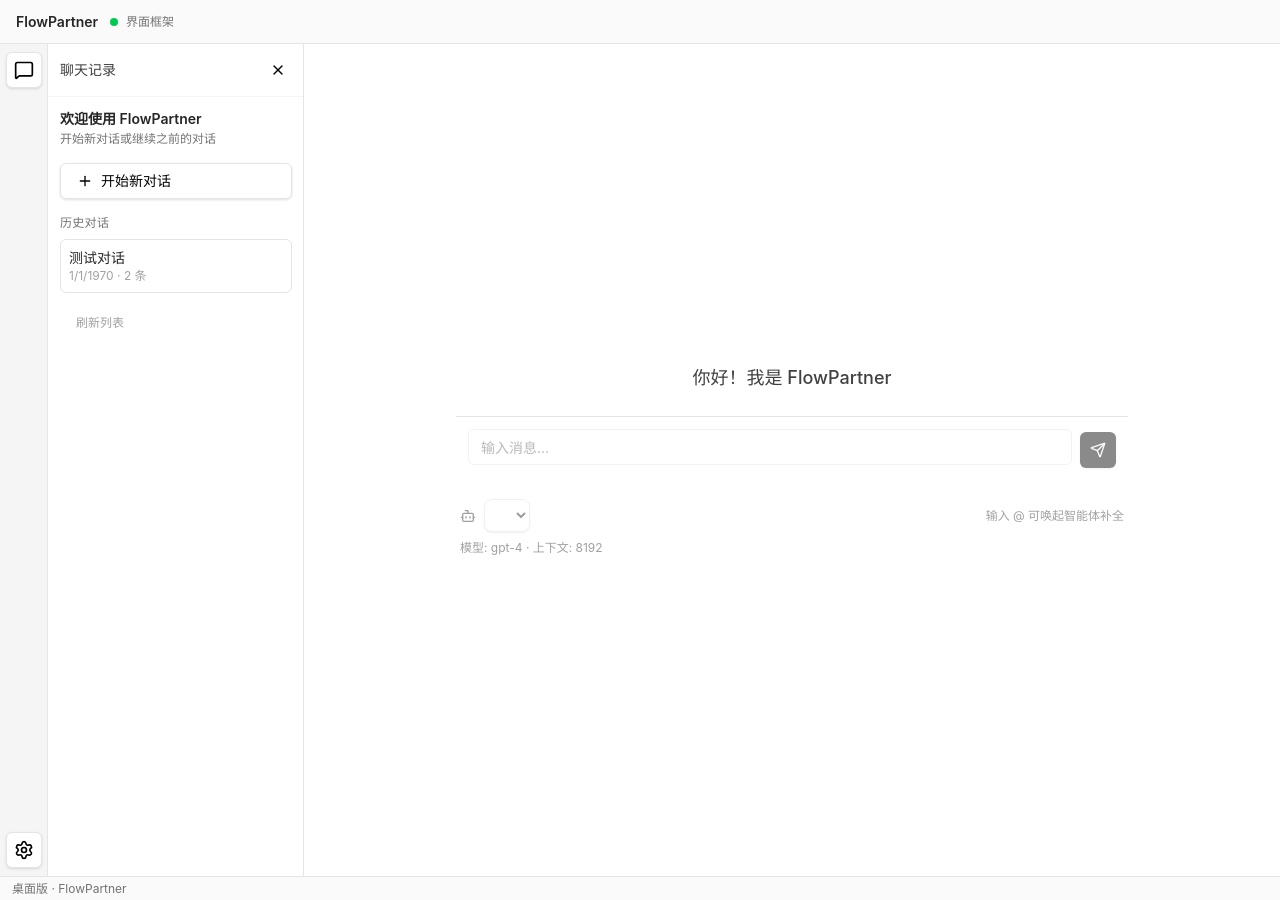
App Integration › sidebar loads history directly and new chat resets to welcome view
This screenshot has width=1280, height=900.
Expected: the button "开始新对话" is enabled, [60,163,292,199]
Expected: the heading "历史对话" is shown, [60,215,109,230]
Note: 点击历史会话 → 加载到聊天区
Click the text "测试对话". click: (97, 258)
box: [69,249,125,266]
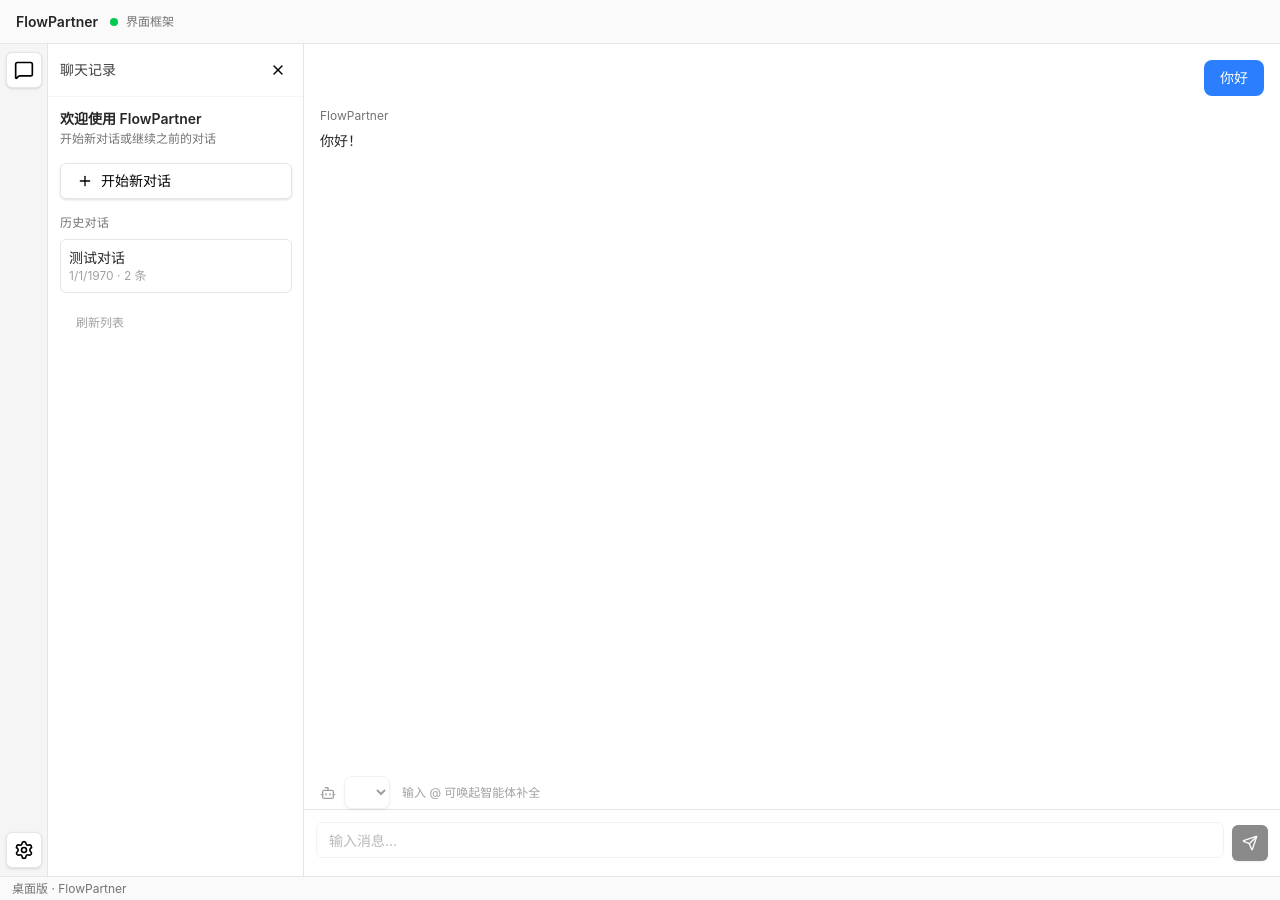
Expected: the text "你好！" is shown, [320,132,362,149]
Note: 开始新对话 → 清空聊天区，回到欢迎页
Click the button "开始新对话". click: (176, 181)
box: [60,163,292,199]
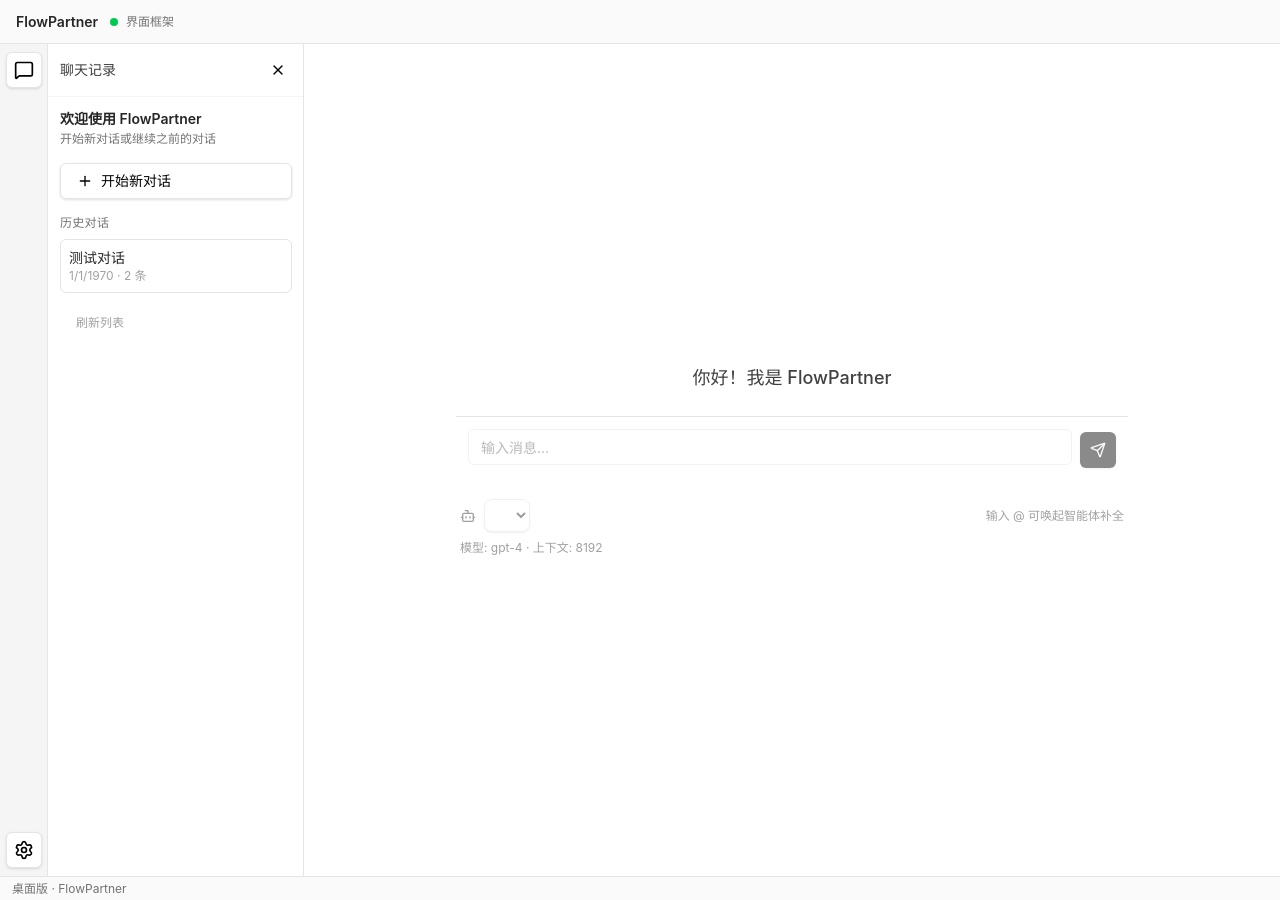
Result: the heading "你好！我是 FlowPartner" is shown at [692,364,891,392]
